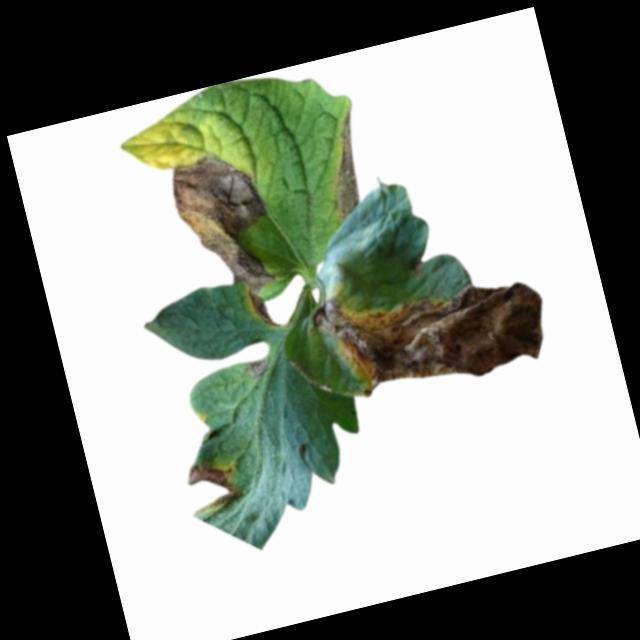Early_blight: (309, 248, 555, 410), (164, 148, 277, 303), (317, 111, 376, 223), (181, 455, 248, 517), (246, 288, 279, 333), (247, 356, 274, 378), (409, 256, 426, 276)
